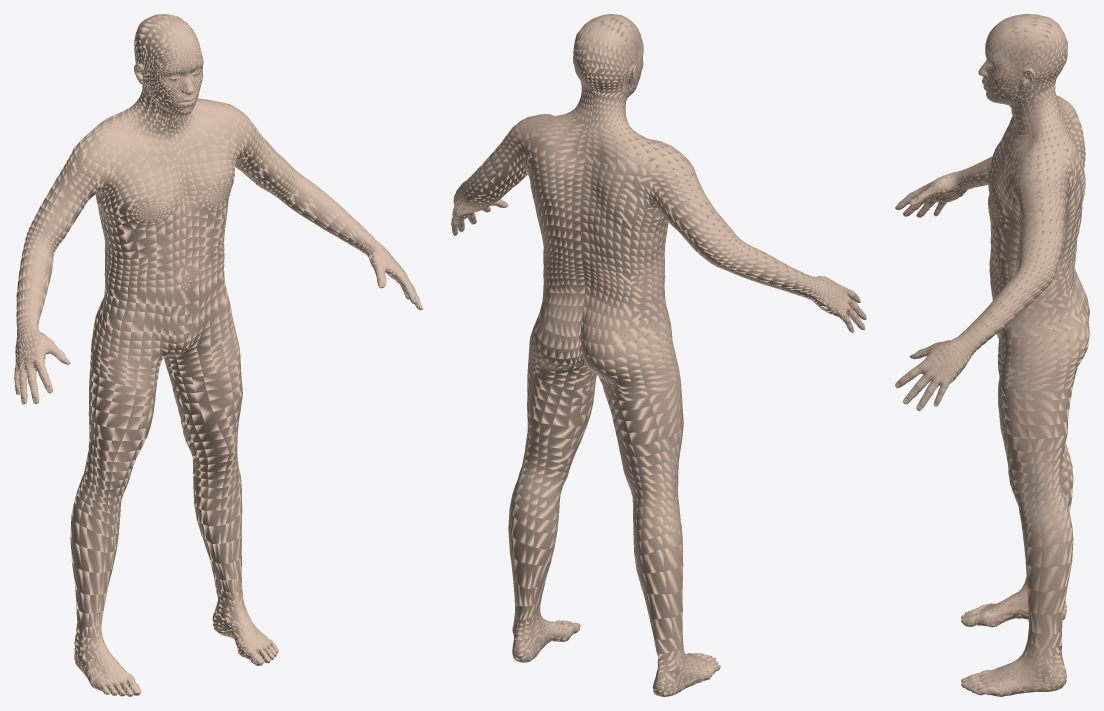
Rendered from male_medium_high.glb.
3 renders of one model, left to right at view 1: azimuth 30°, elevation 25°; view 2: azimuth 150°, elevation 25°; view 3: azimuth 270°, elevation 25°, orthographic.
Visible parts, largest first — view 1: male_medium_highMesh; view 2: male_medium_highMesh; view 3: male_medium_highMesh.
Boxes of the visible parts, bbox=[...] form: male_medium_highMesh: bbox=[14, 14, 422, 696]; male_medium_highMesh: bbox=[451, 14, 866, 696]; male_medium_highMesh: bbox=[895, 14, 1089, 696].
Bounding box in the file's own units: 11.21 × 17.17 × 4.75.
